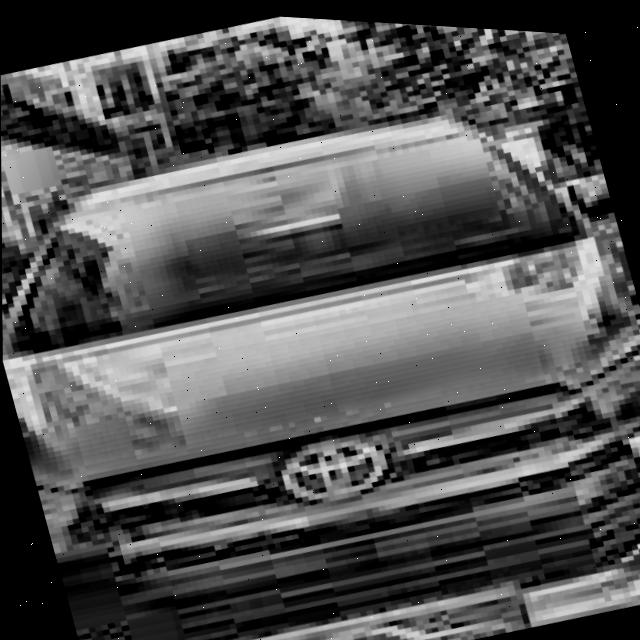light_vehicle: (0, 42, 640, 640)
